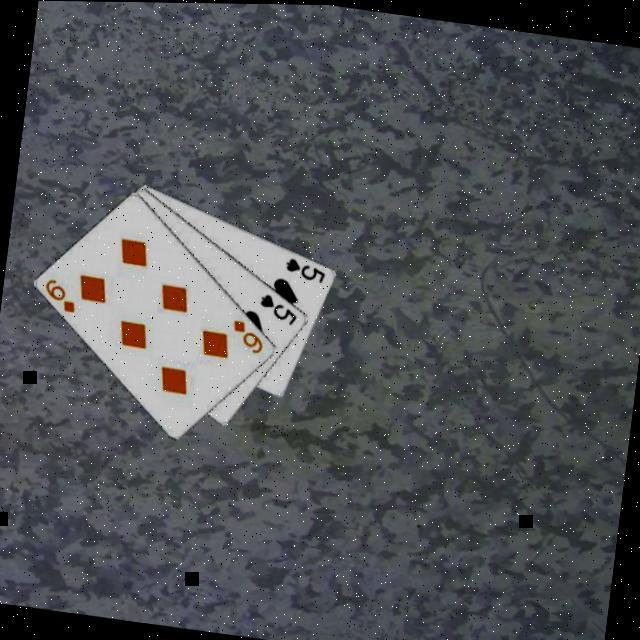5S: (252, 285, 300, 325), (280, 250, 328, 282)
6D: (37, 272, 80, 313), (224, 313, 266, 354)
